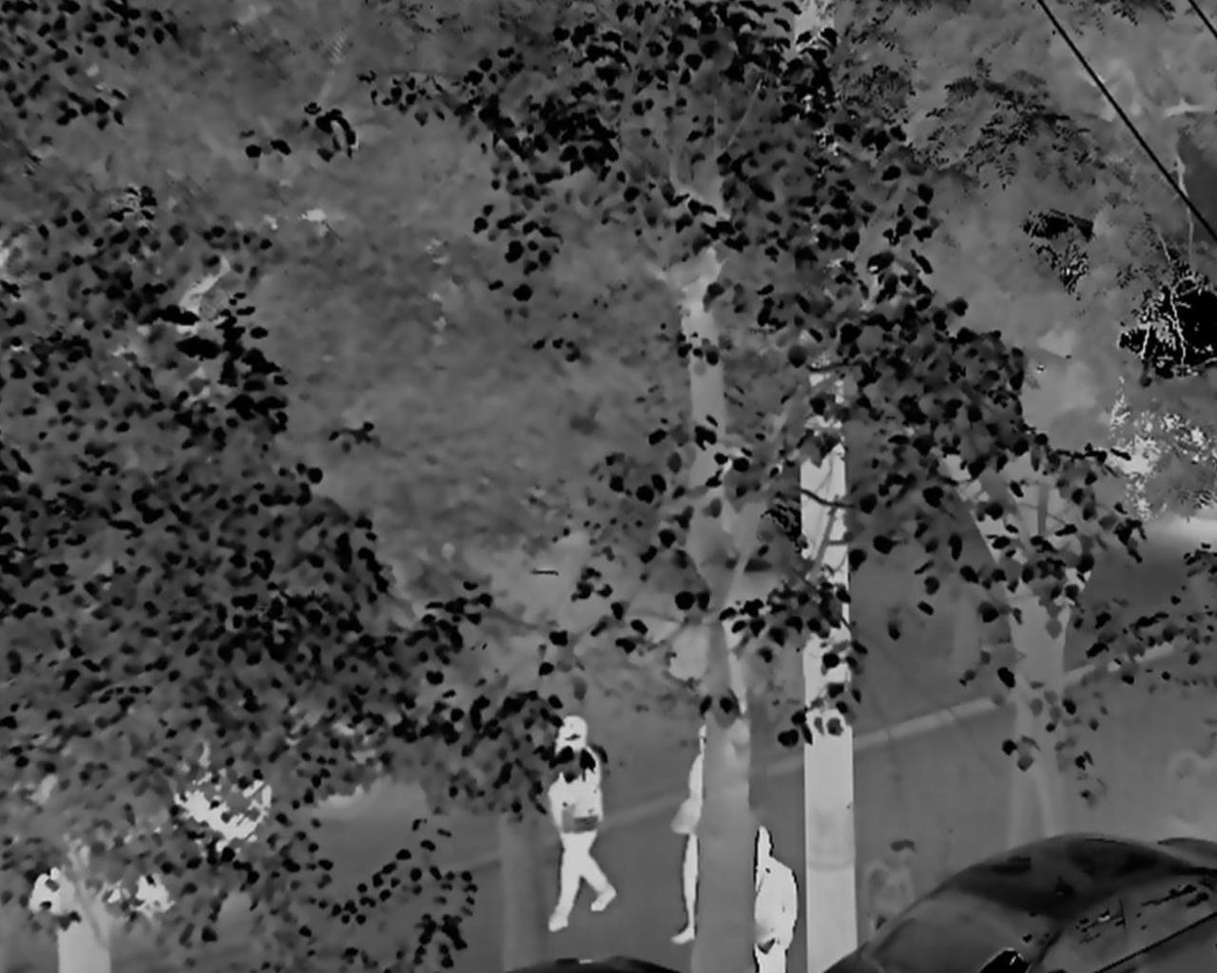person: (547, 715, 618, 932), (673, 720, 707, 948), (751, 827, 798, 973)
